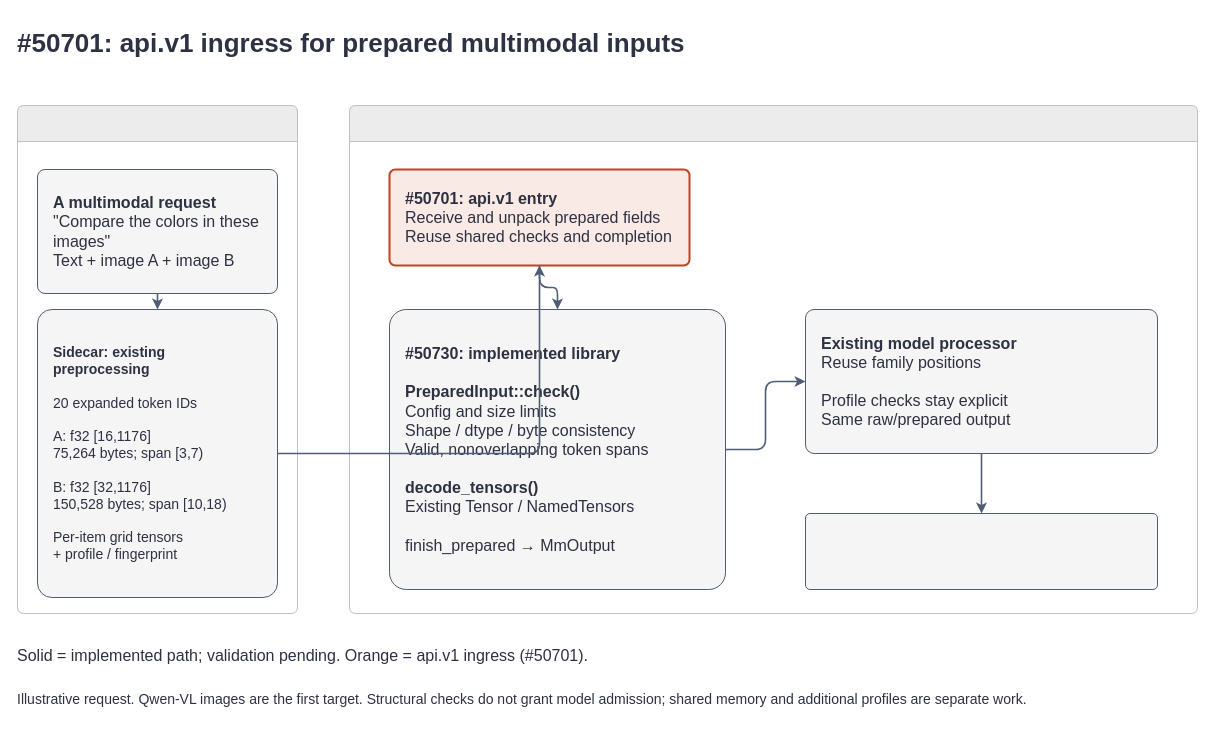
The diagram is 1215 pixels wide and 734 high, and some of its shapes have lost their labels. Each missing label, with the box of its shape:
Existing inference Vision Encoder → LLM: (804, 512, 1158, 590)
Inside SGLang: prepared-input path for the admitted profile: (348, 104, 1198, 614)
Outside SGLang: caller / sidecar: (16, 104, 298, 614)
